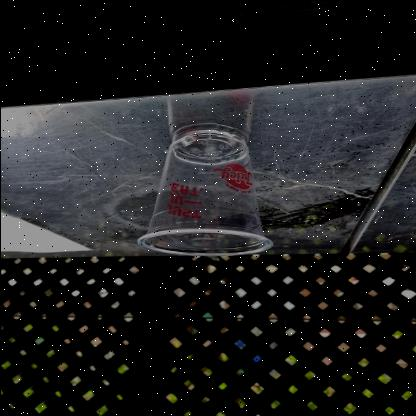Others: (134, 126, 274, 256)
